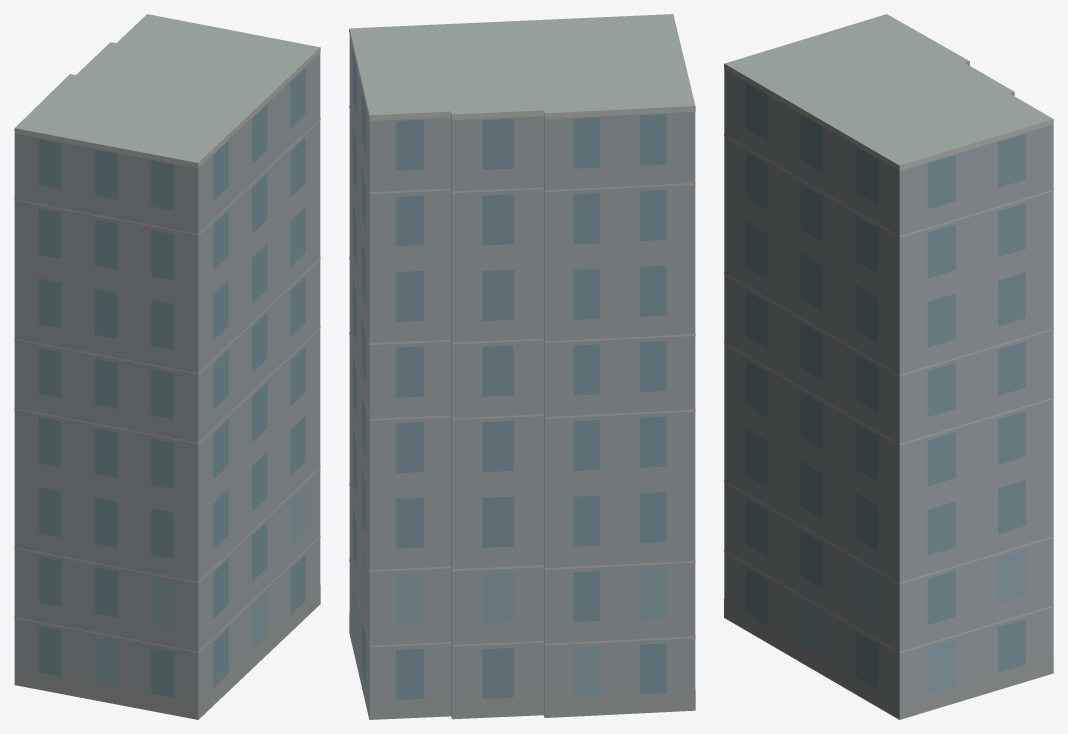
File: survey-upis-32560928.glb
The picture shows the model from 3 angles, left to right: view 1: azimuth 30°, elevation 25°; view 2: azimuth 150°, elevation 25°; view 3: azimuth 270°, elevation 25°; orthographic projection. The views are drawn at different scales.
Visible parts, largest first — view 1: survey-upis-32560928.tmp; view 2: survey-upis-32560928.tmp; view 3: survey-upis-32560928.tmp.
Part boxes in pixels (x1,y1,x2,y2): survey-upis-32560928.tmp: [14, 14, 320, 719]; survey-upis-32560928.tmp: [349, 14, 695, 719]; survey-upis-32560928.tmp: [724, 14, 1053, 719].
Bounding box in the file's own units: 15.1 × 25.7 × 13.87.
